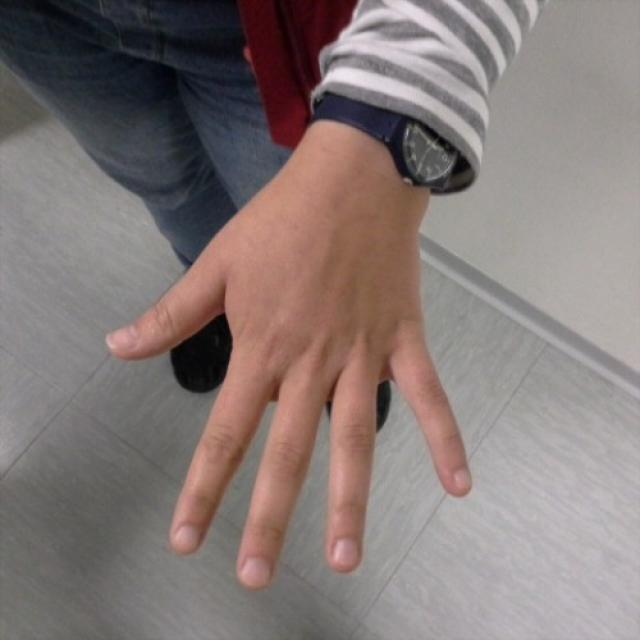paper: (104, 218, 474, 587)
